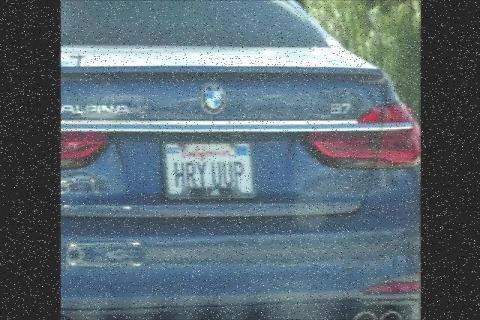LicensePlate: (165, 139, 253, 199)
